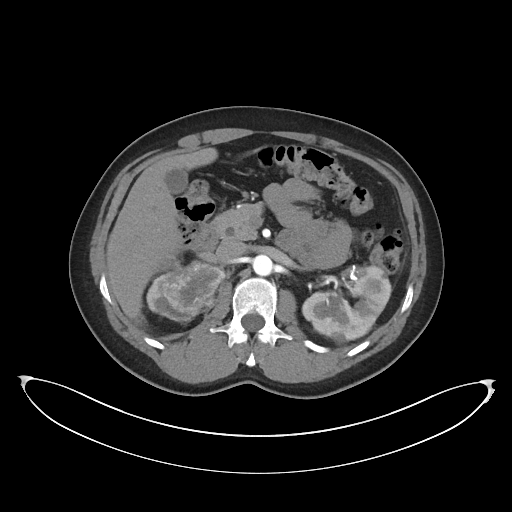Lesion: (163, 258, 227, 315)
